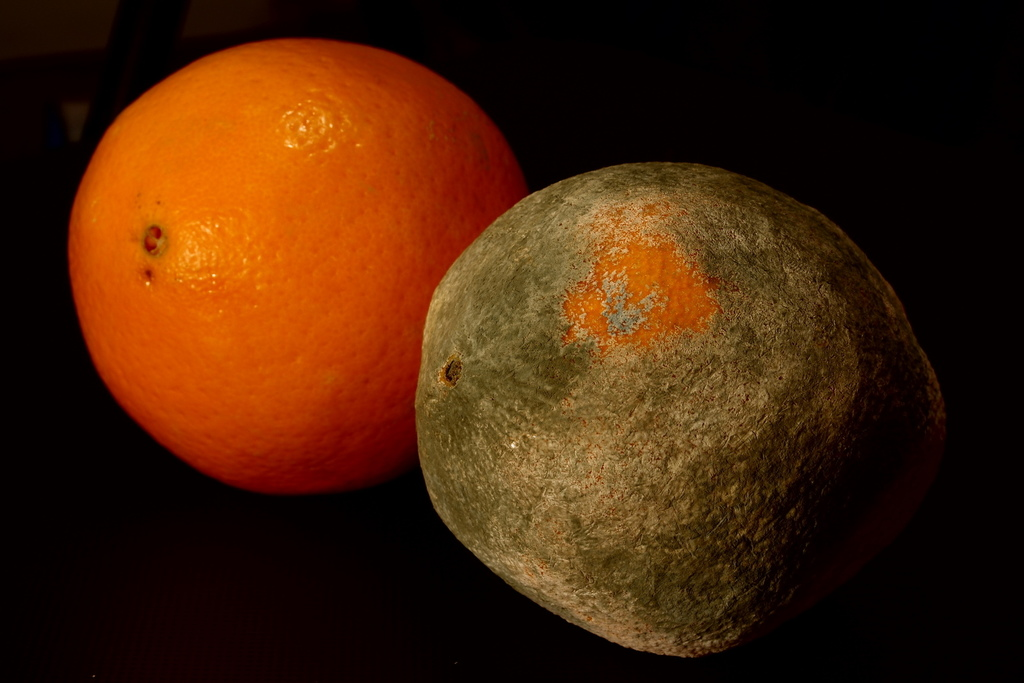Ripe: (404, 162, 945, 662), (58, 31, 503, 506)
